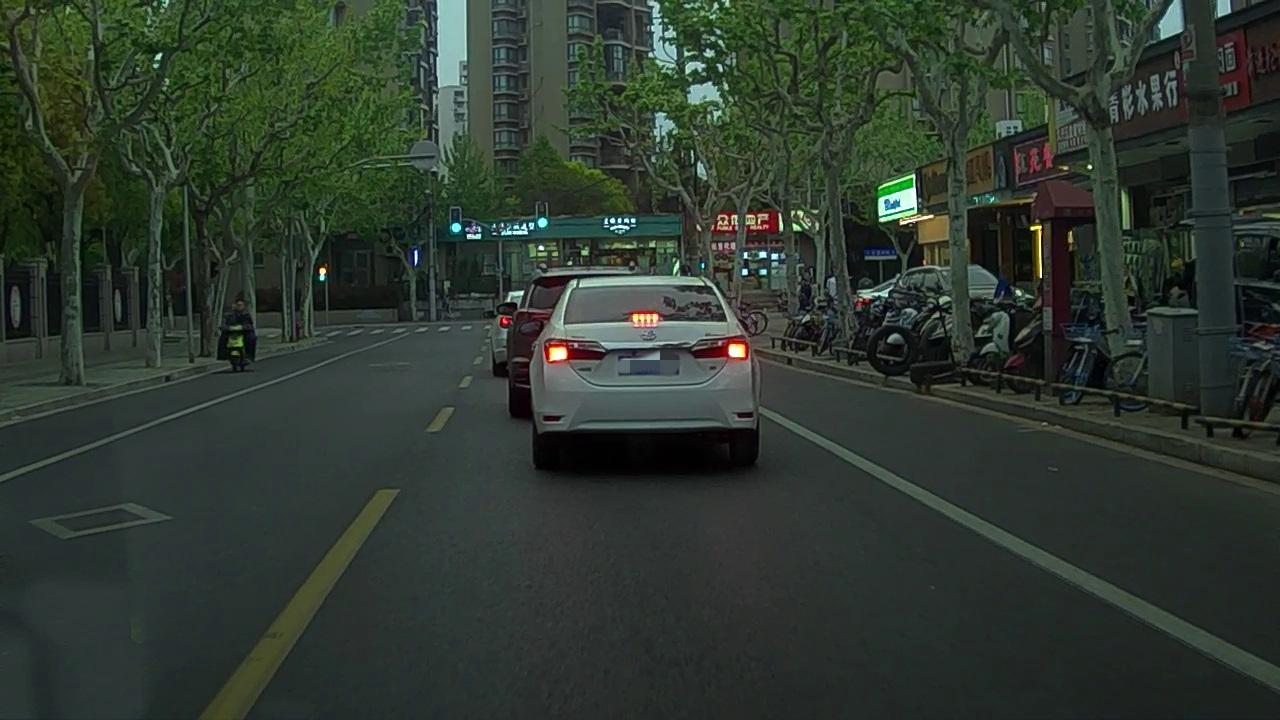traffic_light: (450, 206, 461, 235), (537, 202, 548, 231)
